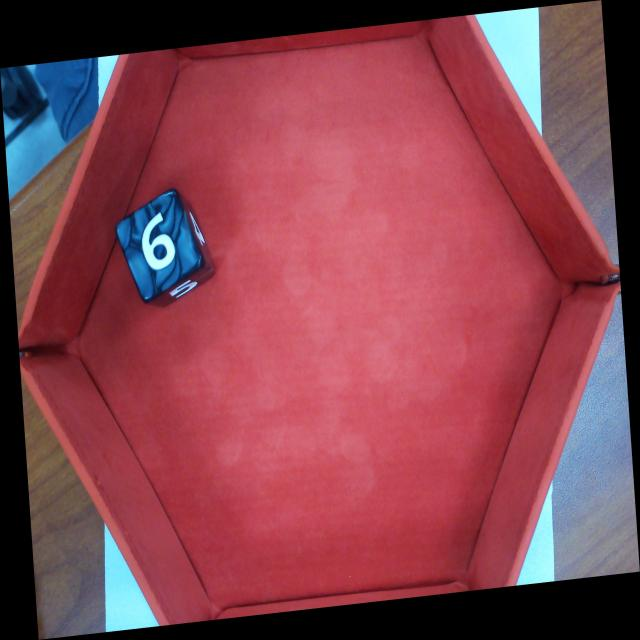dice: (117, 192, 201, 302)
